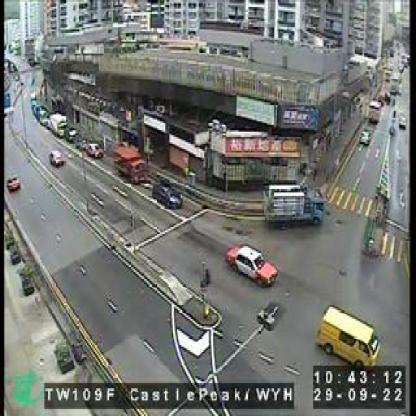Car: (315, 302, 381, 371), (224, 241, 280, 295), (152, 180, 187, 212), (46, 151, 66, 168), (8, 173, 22, 196), (85, 140, 100, 160), (76, 135, 84, 154)
Minibus: (36, 106, 46, 130)
Truck: (261, 184, 325, 229), (112, 146, 144, 187), (51, 111, 65, 139)
